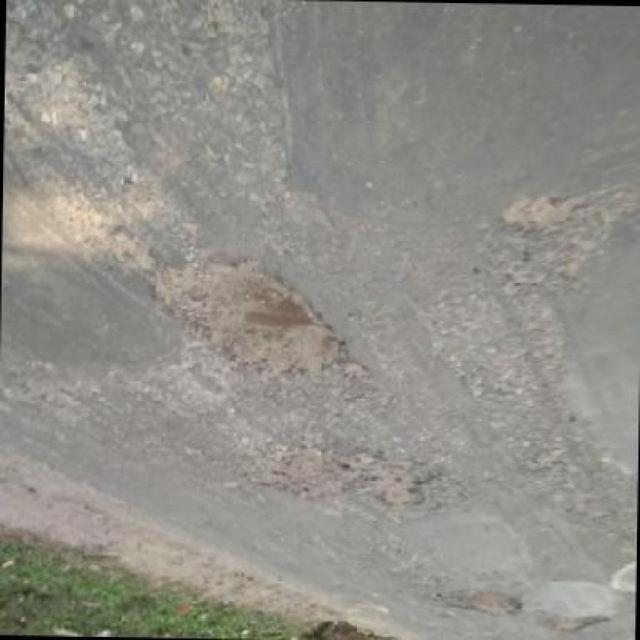pothole1: (140, 253, 351, 385), (234, 445, 440, 509), (430, 584, 522, 622), (543, 611, 609, 635)
